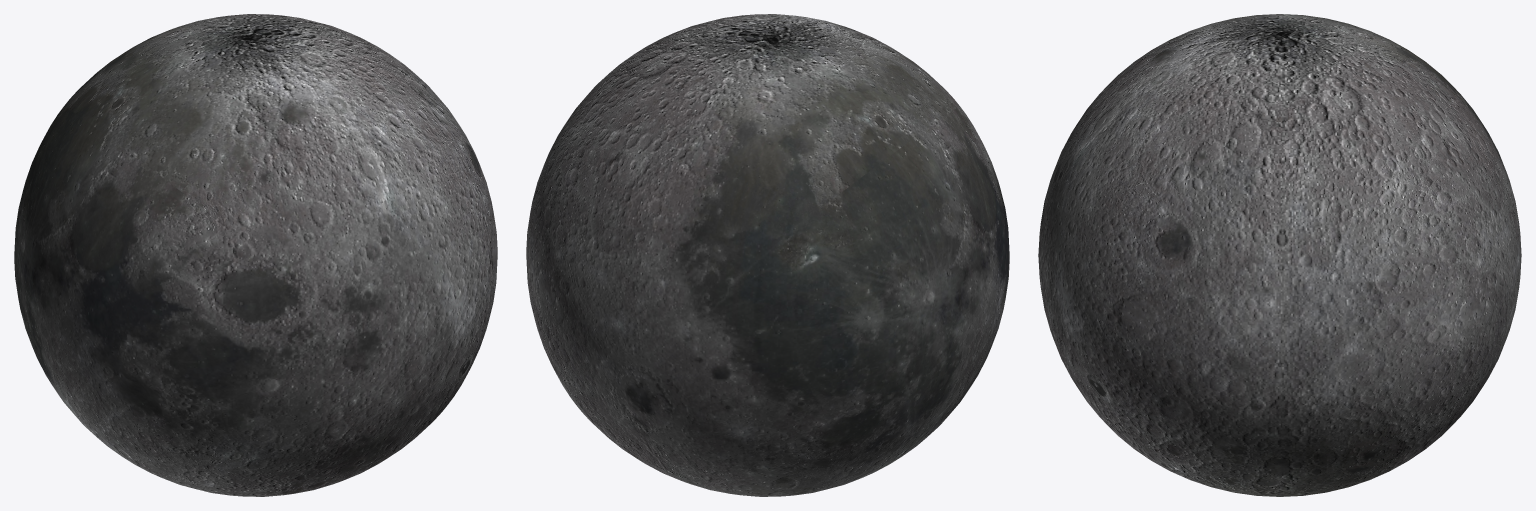
The model's file is moon.glb.
The picture shows the model from 3 angles, left to right: view 1: azimuth 30°, elevation 25°; view 2: azimuth 150°, elevation 25°; view 3: azimuth 270°, elevation 25°; orthographic projection.
Parts seen in each view (by area): view 1: Cube.008; view 2: Cube.008; view 3: Cube.008.
Part boxes in pixels (x1,y1,x2,y2): Cube.008: (14, 14, 497, 496); Cube.008: (526, 14, 1009, 496); Cube.008: (1038, 14, 1521, 496).
Size of the model in its own units: 1 by 0.9988 by 1.
Materials: 1 (1 with a texture image).
